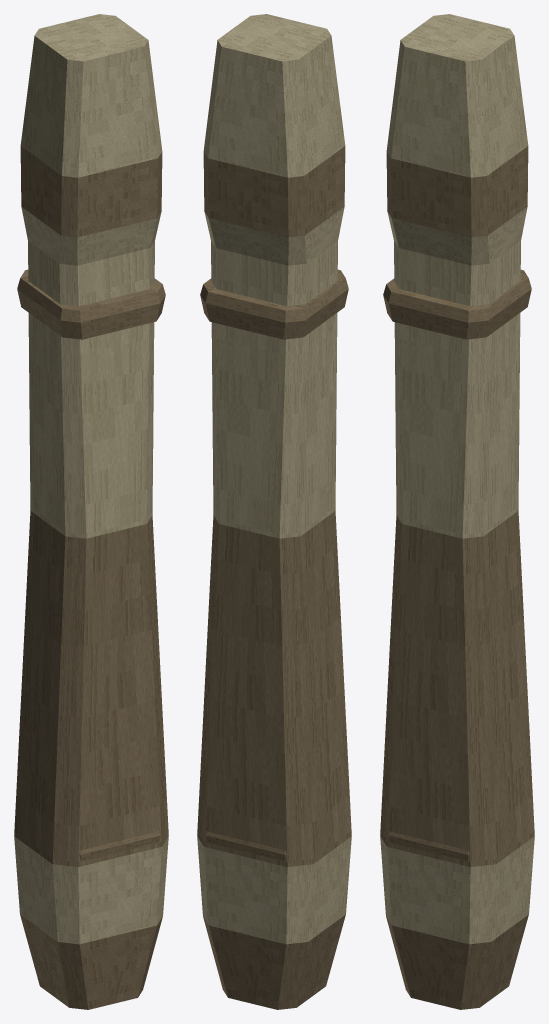
The model's file is thorn_bone_handle.obj.
3 views of the same model, side by side, from view 1: azimuth 30°, elevation 25°; view 2: azimuth 150°, elevation 25°; view 3: azimuth 330°, elevation 25° (orthographic).
Visible parts, largest first — view 1: geometry; view 2: geometry; view 3: geometry.
Part boxes in pixels (bbox=[...]): geometry: bbox=[14, 14, 168, 1009]; geometry: bbox=[197, 14, 351, 1009]; geometry: bbox=[380, 14, 534, 1009].
Bounding box in the file's own units: 0.12 × 0.9375 × 0.1037.
